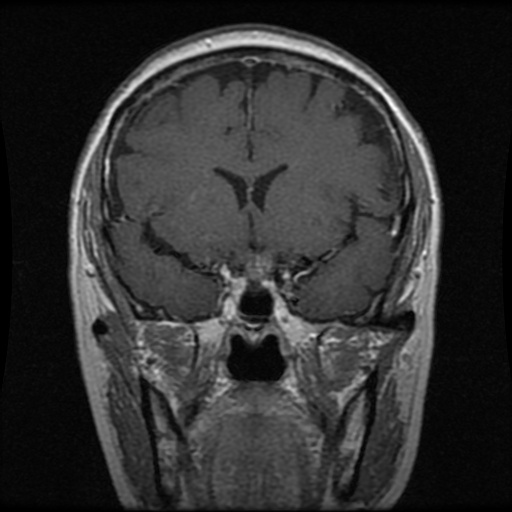pituitary: (244, 251, 276, 281)
